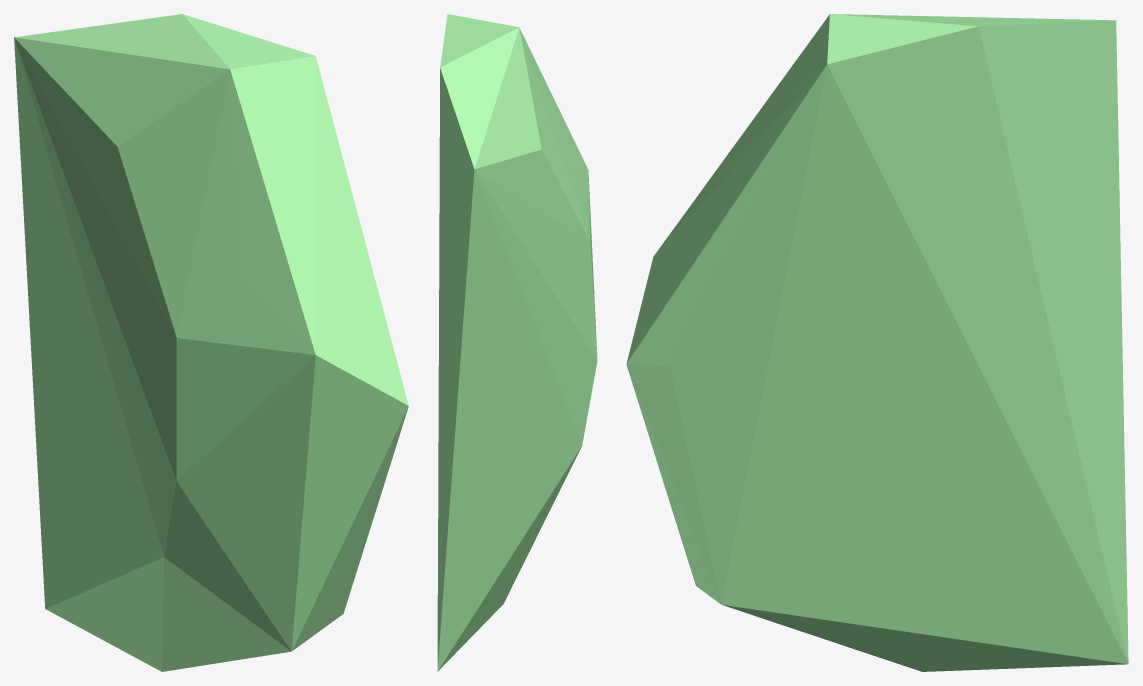
Rendered from xarm7_with_gripper_LR4_R560_link6_respondable_coll_23.dae.
The picture shows the model from 3 angles, left to right: view 1: azimuth 30°, elevation 25°; view 2: azimuth 150°, elevation 25°; view 3: azimuth 270°, elevation 25°; orthographic projection. The views are drawn at different scales.
Parts seen in each view (by area): view 1: Node_000001B88F9DE460; view 2: Node_000001B88F9DE460; view 3: Node_000001B88F9DE460.
Boxes of the visible parts, x1,y1,x2,y2 form: Node_000001B88F9DE460: (14, 14, 408, 671); Node_000001B88F9DE460: (437, 14, 597, 671); Node_000001B88F9DE460: (626, 14, 1128, 671).
Size of the model in its own units: 0.0164 by 0.0595 by 0.0402.
